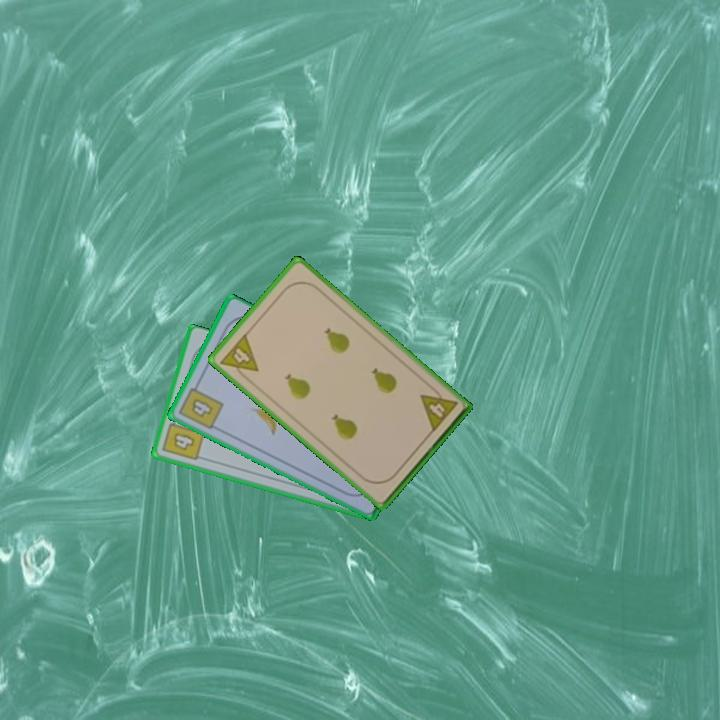4b: (175, 378, 226, 432), (159, 413, 207, 464)
4p: (216, 330, 261, 384), (416, 382, 460, 435)
